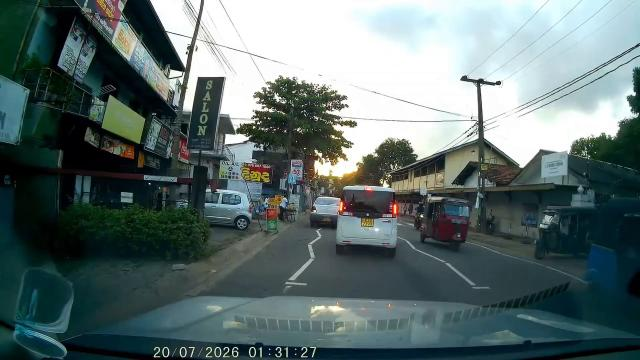number plate: (360, 217, 376, 229)
